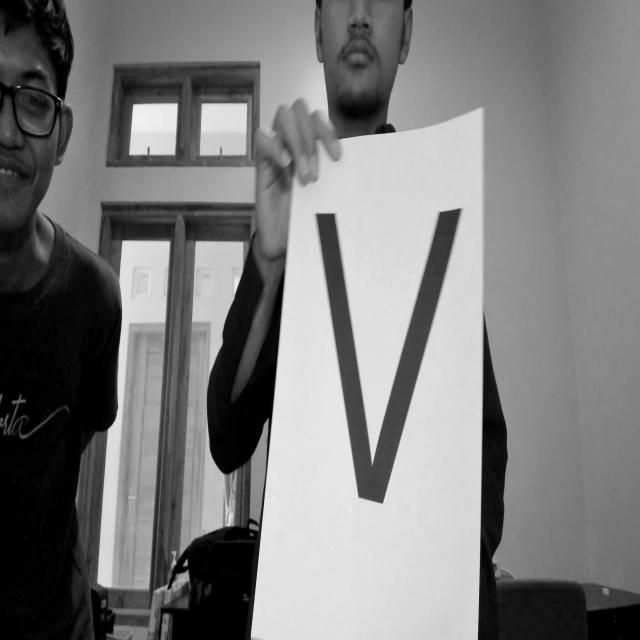v: (308, 190, 472, 522)
